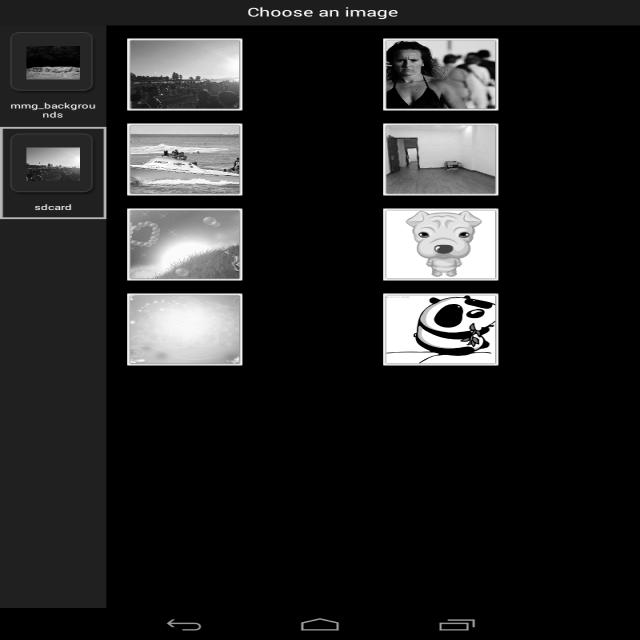ImageView: (383, 38, 498, 112), (381, 123, 496, 195), (384, 209, 499, 281), (383, 294, 498, 366), (126, 294, 244, 364), (130, 123, 242, 195), (128, 207, 241, 277), (132, 41, 240, 107), (25, 147, 80, 185), (28, 48, 82, 82)
TextView: (242, 5, 402, 21), (7, 100, 99, 120), (30, 202, 74, 215)
